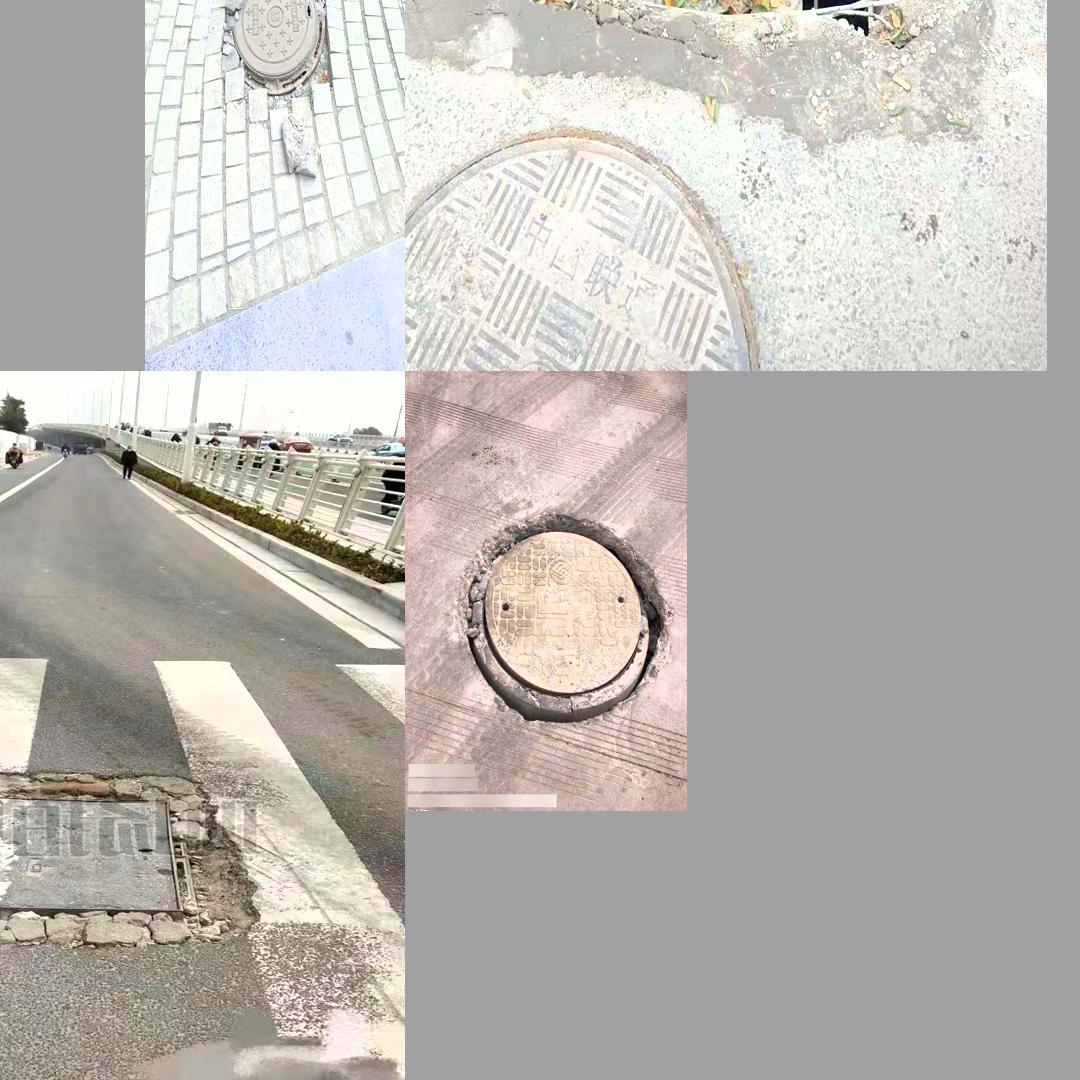circle: (461, 515, 663, 727), (207, 0, 342, 125), (0, 1013, 163, 1080), (501, 0, 910, 17)
